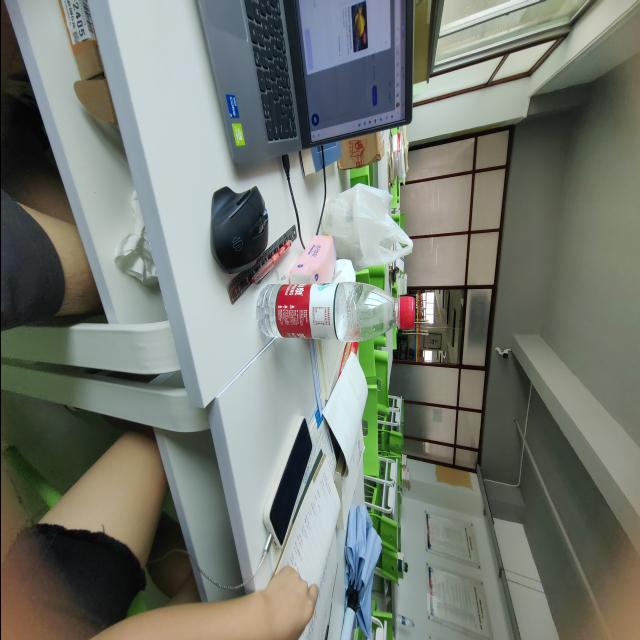寶特瓶: (252, 280, 418, 342)
